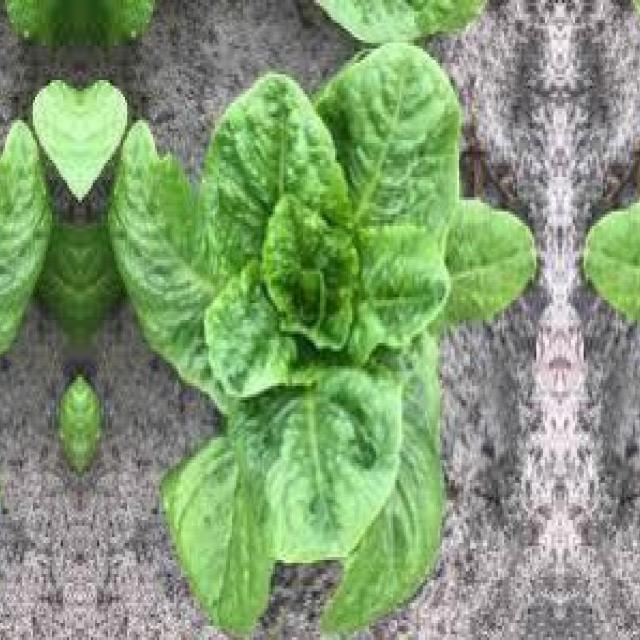healthy: (122, 43, 490, 607), (0, 43, 38, 607), (629, 43, 640, 607)
